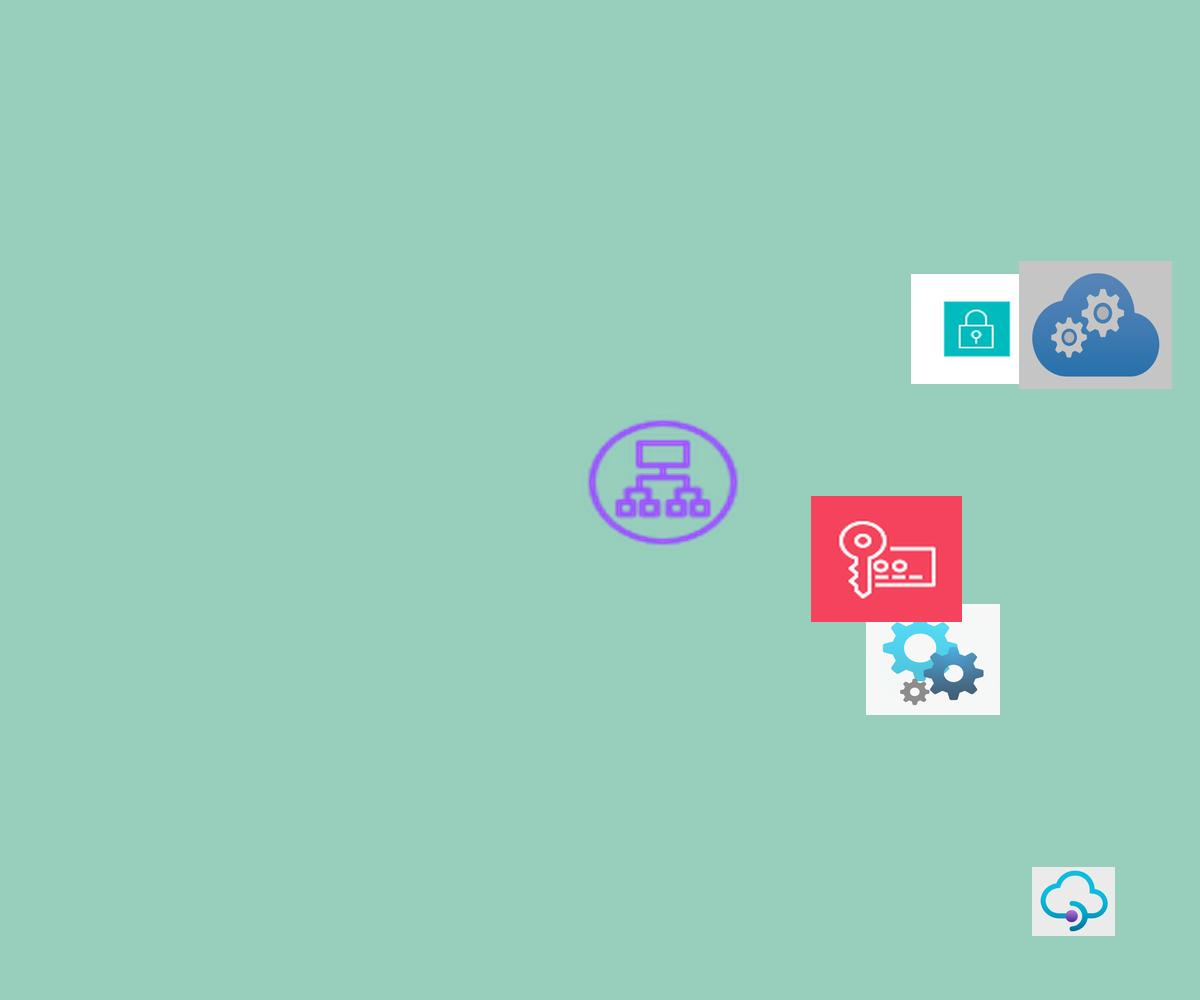AWS-Key-Management-Service: (811, 496, 962, 622)
AWS-Private-subnet: (911, 274, 1043, 384)
AWS-Res_Elastic-Load-Balancing_Application-Load-Balancer: (582, 415, 744, 550)
Azure_api: (866, 604, 1000, 715)
Azure_api_gateway: (1032, 867, 1115, 936)
Azure_cloud_services: (1019, 261, 1172, 389)
